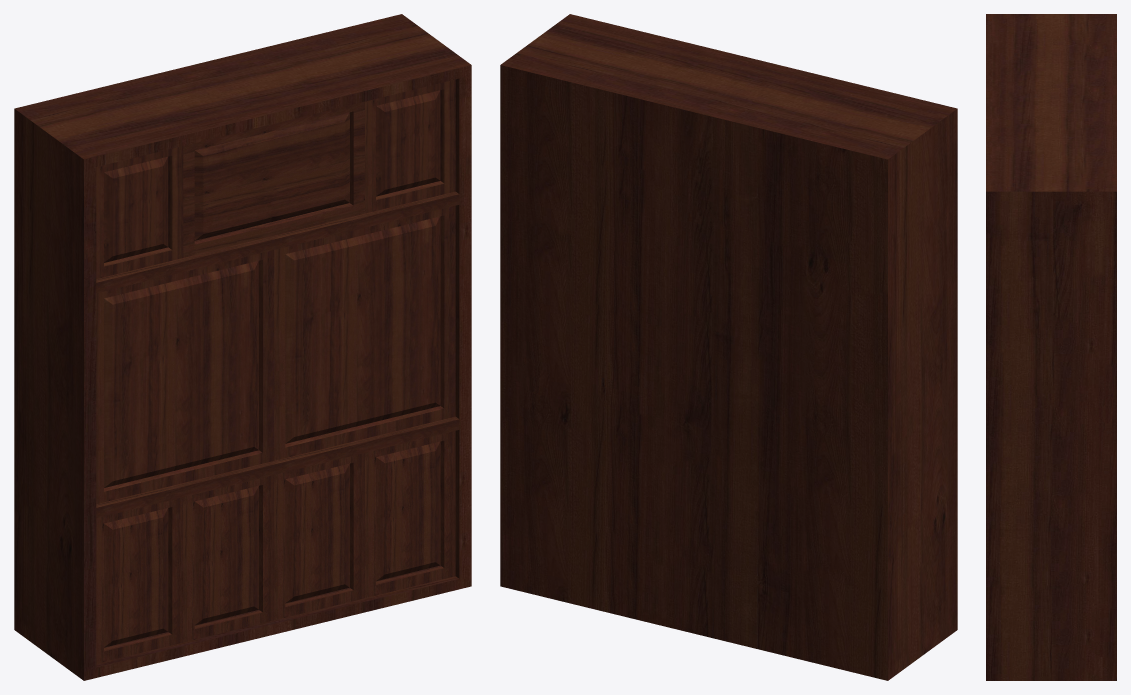
The model's file is Cupboard.fbx.
3 renders of one model, left to right at view 1: azimuth 30°, elevation 25°; view 2: azimuth 150°, elevation 25°; view 3: azimuth 270°, elevation 25°, orthographic. The views are drawn at different scales.
Parts seen in each view (by area): view 1: Cupboard; view 2: Cupboard; view 3: Cupboard.
Part boxes in pixels (box(x1,y1,x2,y2)): Cupboard: box(14, 14, 471, 680); Cupboard: box(500, 14, 957, 680); Cupboard: box(986, 14, 1116, 680).
Size of the model in its own units: 12.29 by 15.79 by 3.83.
1 material, 1 textured.
